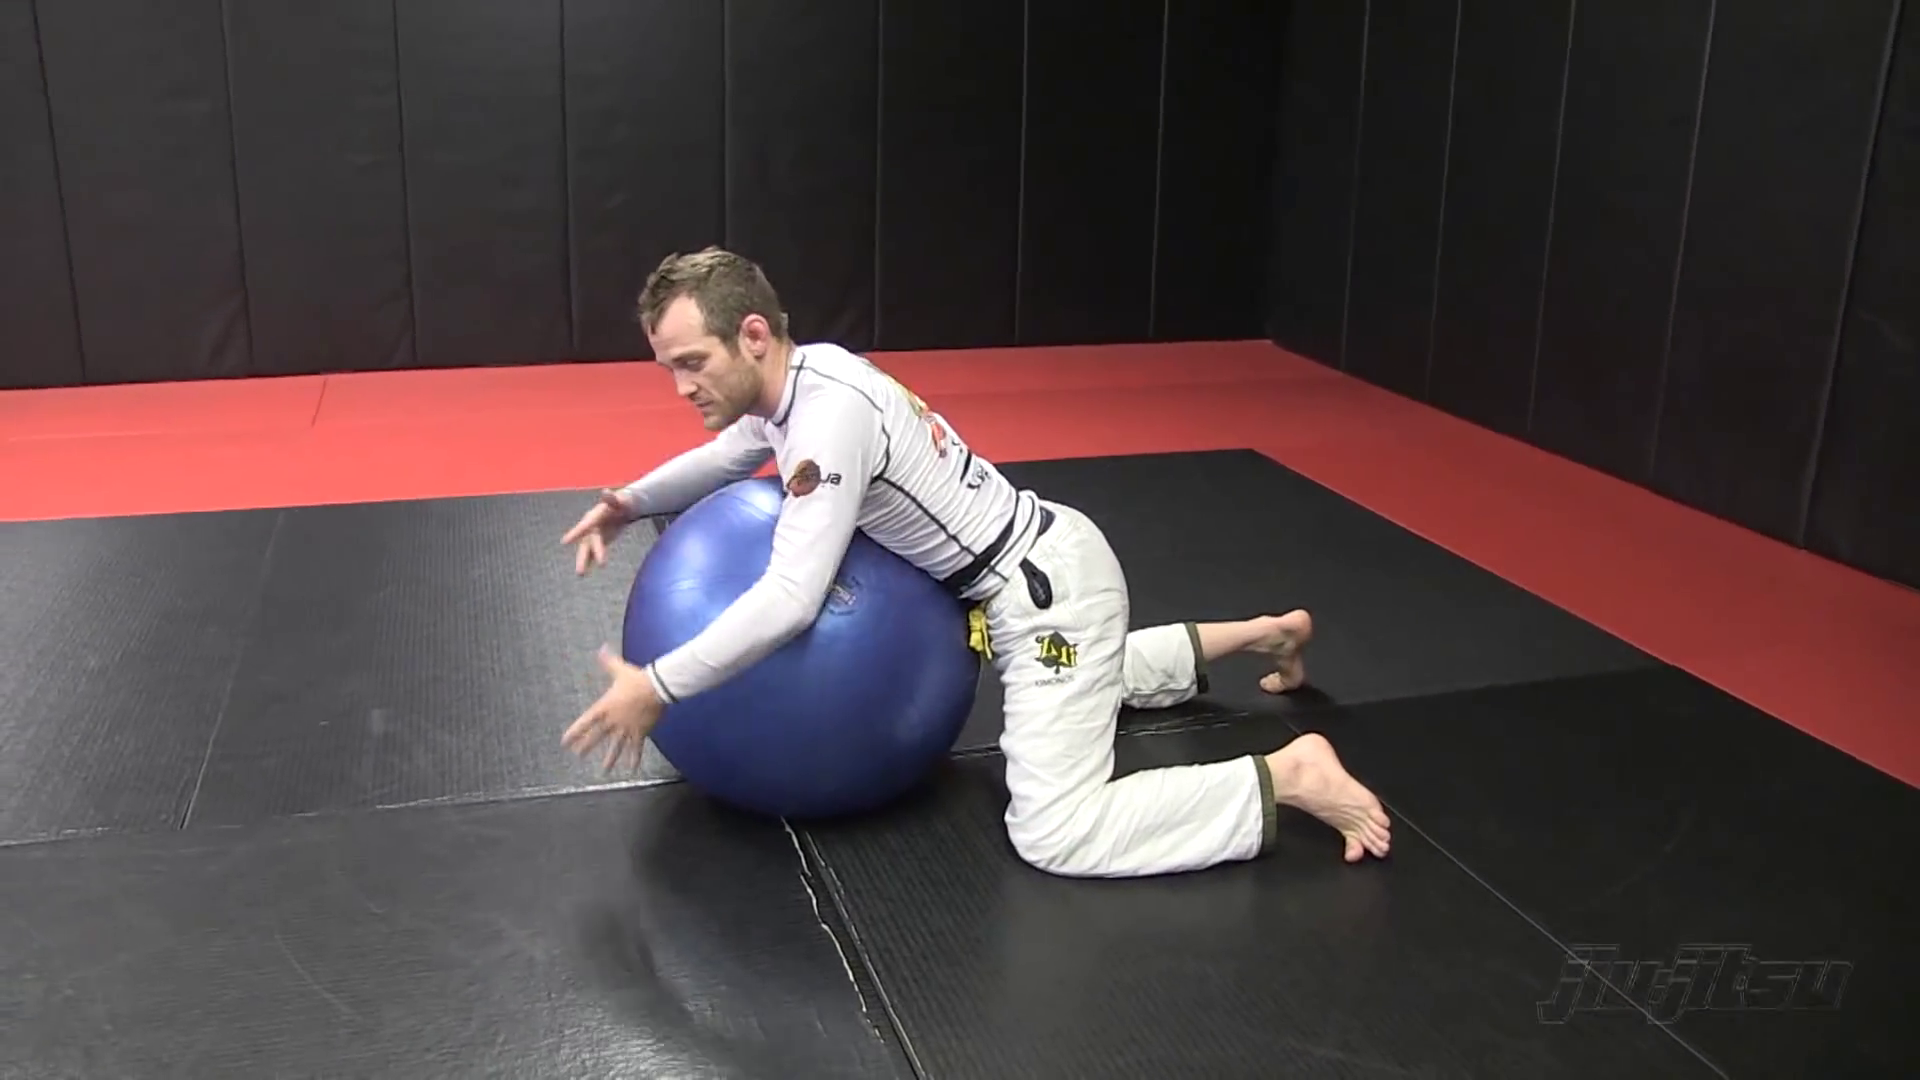yogaball: (608, 462, 997, 843)
